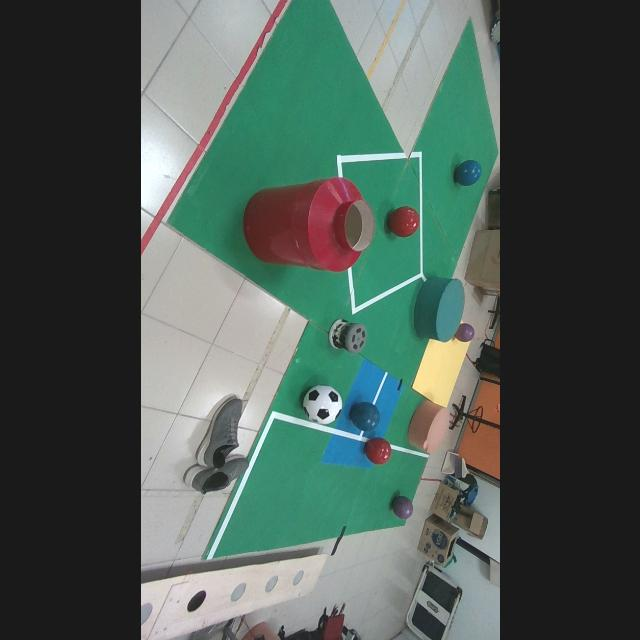B: (349, 402, 380, 431), (454, 161, 481, 186)
P: (392, 496, 413, 519), (455, 323, 474, 342)
R: (388, 206, 420, 237), (365, 437, 392, 465)
